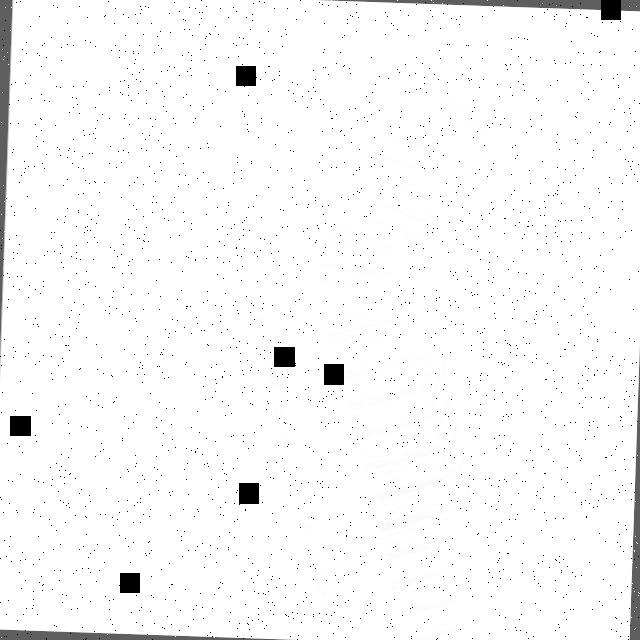plastic_box: (233, 15, 601, 640)
